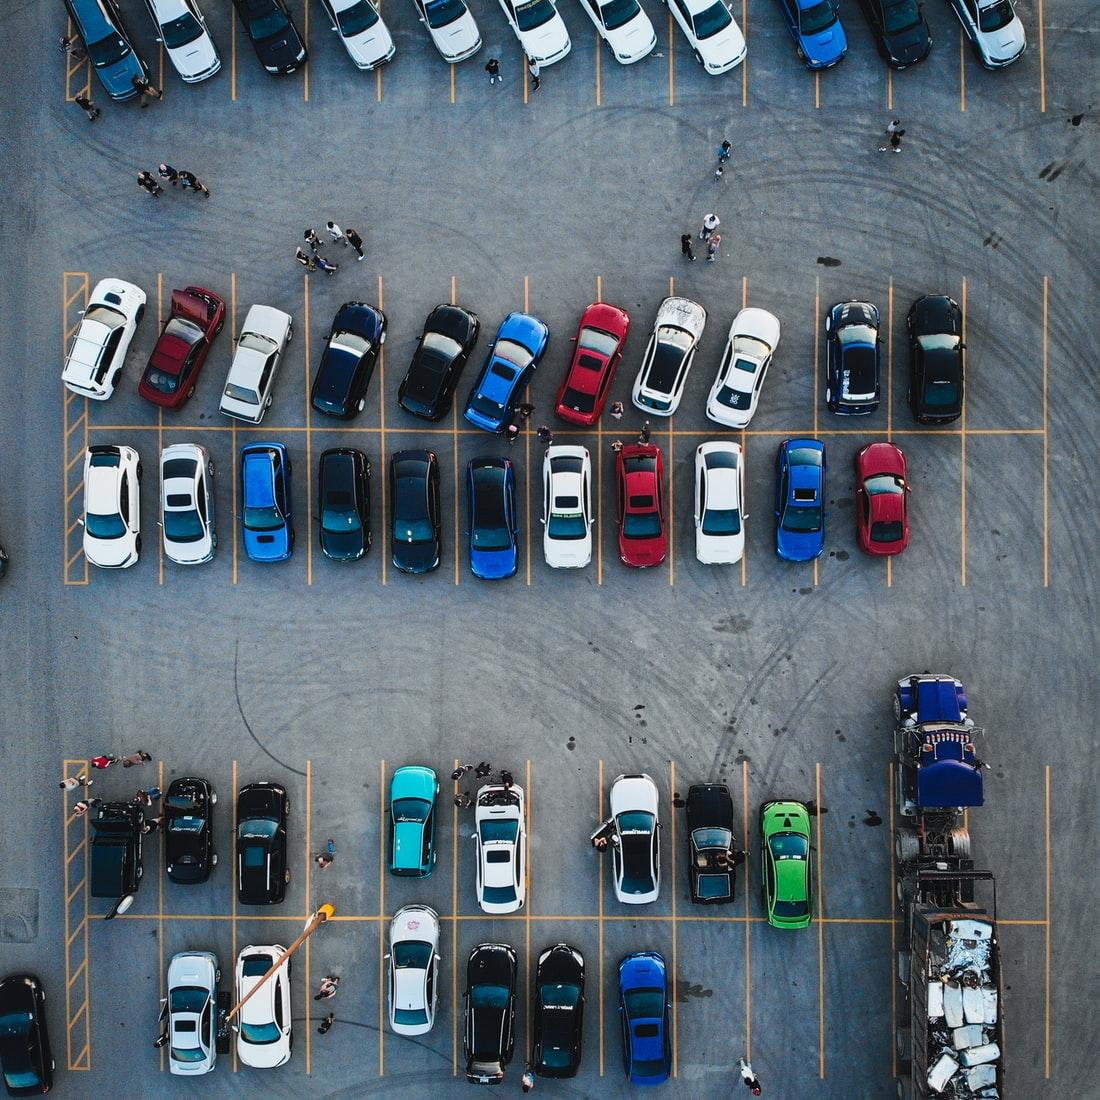car: (883, 664, 1009, 1100), (49, 270, 142, 410), (893, 285, 979, 427), (67, 441, 153, 580), (57, 1, 165, 110), (143, 281, 227, 421), (608, 947, 685, 1092), (594, 772, 671, 915), (749, 789, 821, 940), (632, 283, 707, 426), (305, 296, 388, 424), (455, 454, 524, 608), (381, 904, 453, 1048), (847, 439, 923, 577), (233, 940, 305, 1083), (149, 436, 220, 582), (231, 438, 306, 573), (217, 296, 293, 429), (557, 294, 634, 427), (707, 300, 784, 432), (814, 286, 883, 427), (461, 935, 524, 1091), (670, 1, 774, 95), (400, 295, 476, 422), (473, 305, 547, 437), (160, 937, 226, 1083), (500, 1, 600, 94), (530, 938, 591, 1089), (532, 447, 600, 582), (608, 434, 674, 575), (386, 445, 452, 582), (579, 1, 677, 93), (470, 780, 534, 920), (685, 439, 748, 577), (766, 432, 828, 571), (80, 785, 149, 909), (233, 776, 296, 911), (680, 772, 741, 910), (314, 442, 375, 581), (153, 1, 241, 94), (412, 1, 502, 87), (385, 764, 447, 886), (158, 777, 222, 895), (239, 1, 317, 95), (860, 1, 948, 84), (774, 1, 854, 90), (961, 1, 1037, 93), (326, 1, 421, 73)
